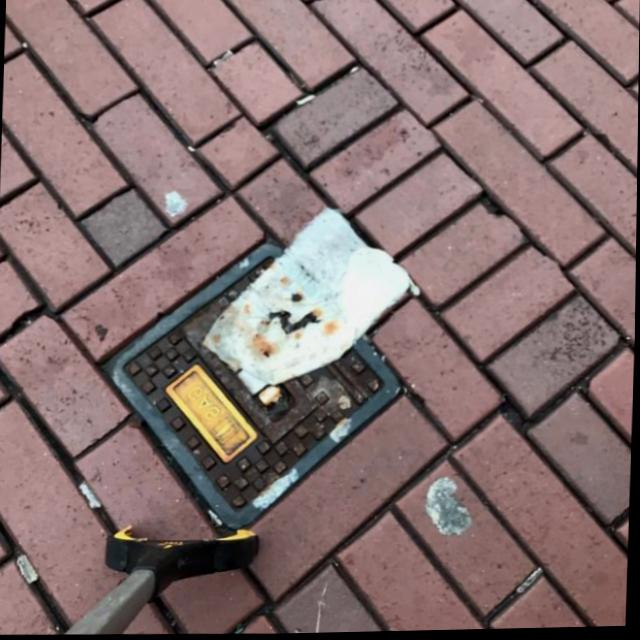Paper: (198, 203, 426, 400)
